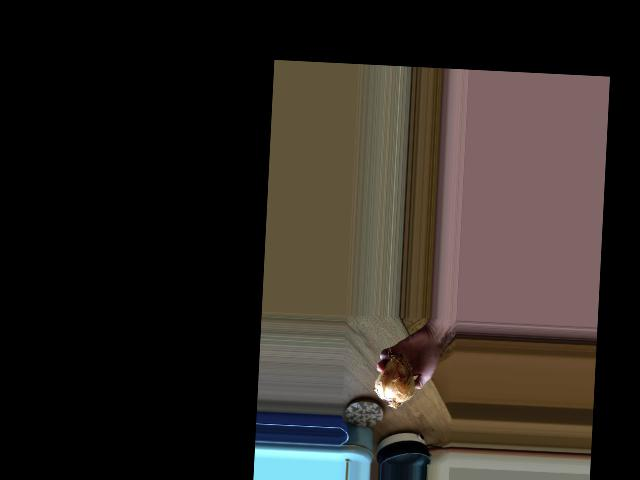onion: (372, 349, 417, 407)
